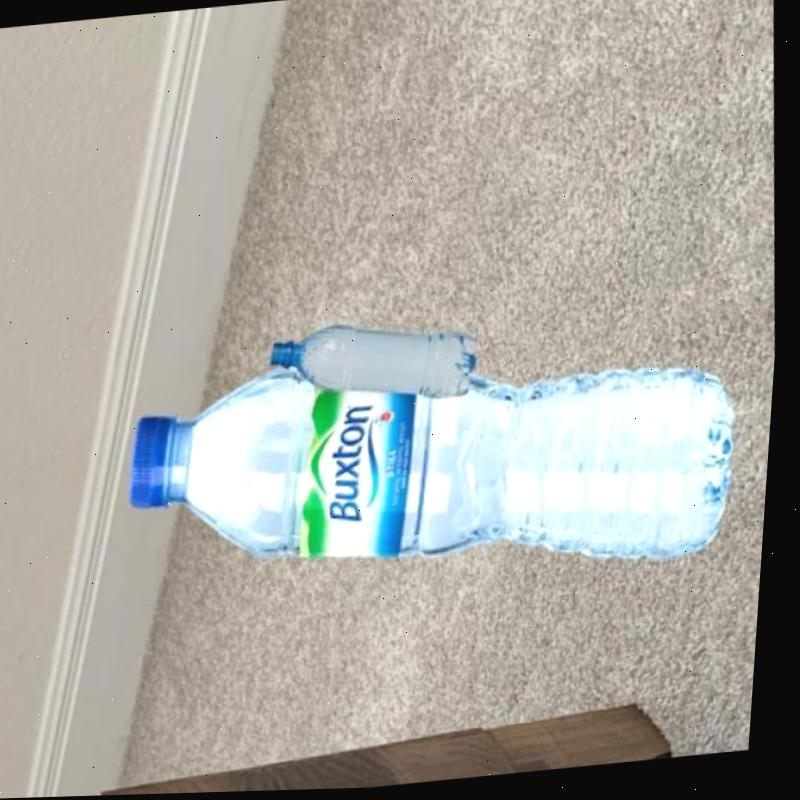botella: (120, 324, 754, 615), (272, 315, 490, 416)
